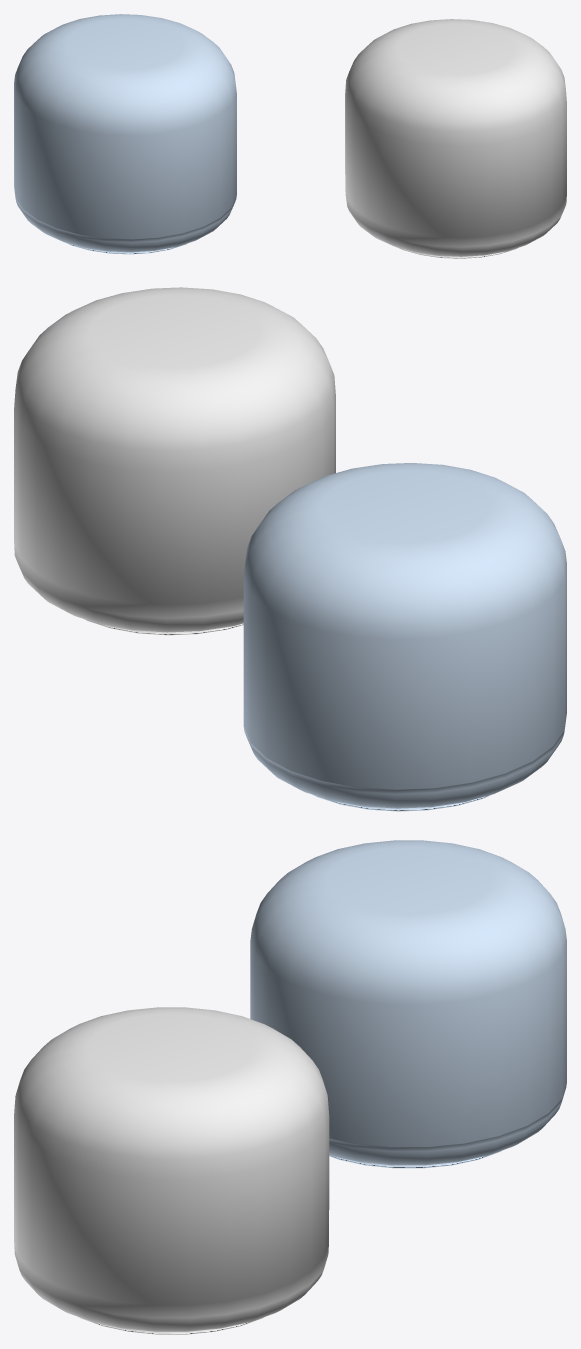
Rendered from home3.gltf.
3 views of the same model, one above another, from view 1: azimuth 30°, elevation 25°; view 2: azimuth 150°, elevation 25°; view 3: azimuth 270°, elevation 25° (orthographic). The views are drawn at different scales.
Visible parts, largest first — view 1: Cylinder, Main; view 2: Cylinder, Main; view 3: Main, Cylinder.
Part boxes in pixels (<box>): Cylinder: <box>14,14,236,254</box>; Main: <box>345,19,566,258</box>; Cylinder: <box>243,463,566,811</box>; Main: <box>14,287,335,635</box>; Main: <box>14,1007,329,1334</box>; Cylinder: <box>250,840,566,1168</box>.
Size of what is drawn, in the model's own units: 5.93 by 2.27 by 4.74.
